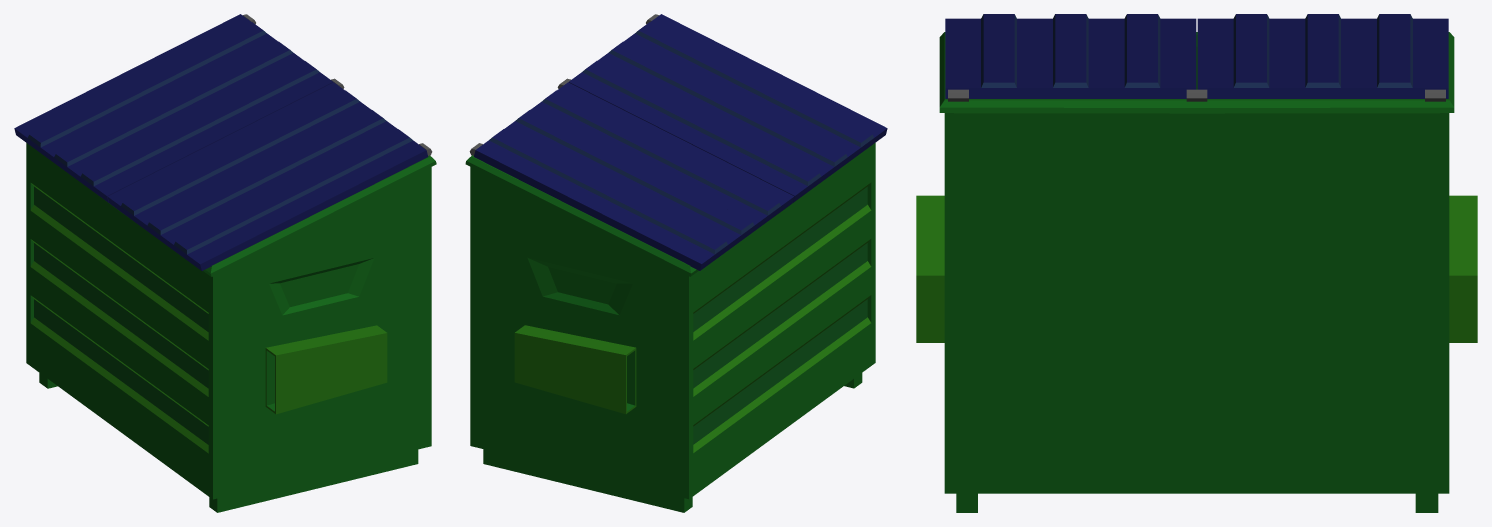
File: Dumpster.FBX
The picture shows the model from 3 angles, left to right: view 1: azimuth 30°, elevation 25°; view 2: azimuth 150°, elevation 25°; view 3: azimuth 270°, elevation 25°; orthographic projection. The views are drawn at different scales.
Visible parts, largest first — view 1: Dumpster, Lid2, Lid1; view 2: Dumpster, Lid1, Lid2; view 3: Dumpster, Lid2, Lid1.
Boxes of the visible parts, bbox=[...] form: Dumpster: bbox=[26, 14, 436, 512]; Lid2: bbox=[107, 82, 428, 270]; Lid1: bbox=[14, 14, 333, 202]; Dumpster: bbox=[465, 14, 875, 512]; Lid1: bbox=[474, 82, 794, 270]; Lid2: bbox=[568, 14, 887, 202]; Dumpster: bbox=[916, 32, 1477, 512]; Lid2: bbox=[945, 14, 1196, 98]; Lid1: bbox=[1197, 14, 1448, 98].
Size of the model in its own units: 131 by 170 by 200.
